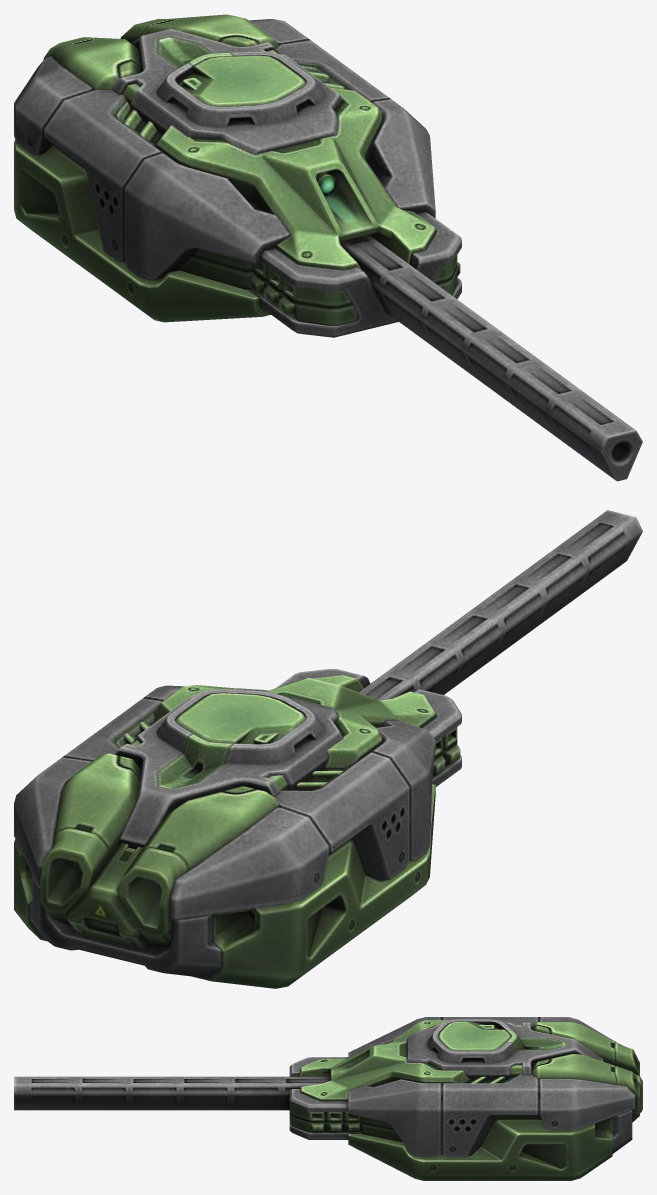
File: rail20.gltf
3 views of the same model, one above another, from view 1: azimuth 30°, elevation 25°; view 2: azimuth 150°, elevation 25°; view 3: azimuth 270°, elevation 25° (orthographic). The views are drawn at different scales.
Parts seen in each view (by area): view 1: turret; view 2: turret; view 3: turret.
Boxes of the visible parts, x1,y1,x2,y2 form: turret: (14,14,642,481); turret: (14,510,642,988); turret: (14,1017,642,1180).
Bounding box in the file's own units: 1.69 × 1 × 5.32.
Materials: 1 (1 with a texture image).
